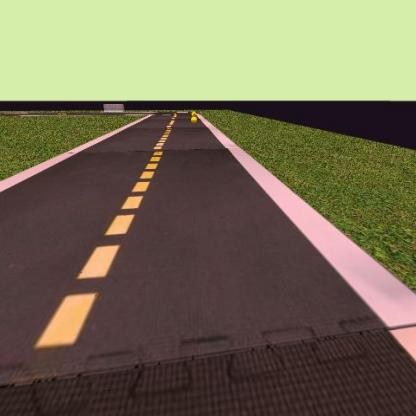Barrier: (103, 102, 125, 115)
Duckie: (189, 108, 200, 124)
